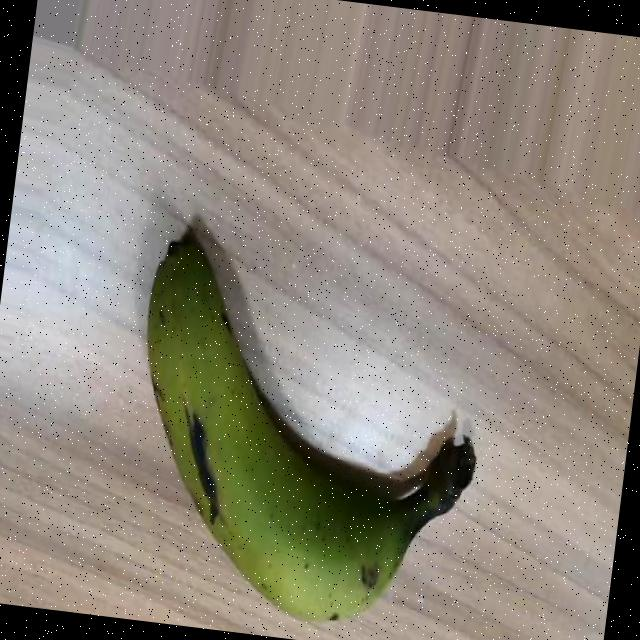Unripe: (112, 226, 500, 638)
